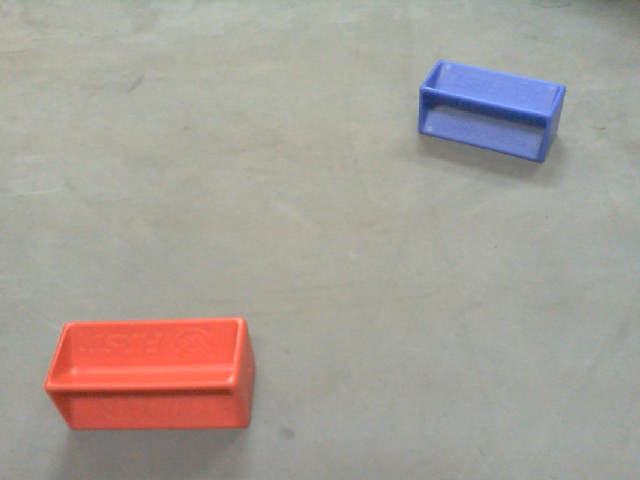BlueSample: (412, 57, 572, 170)
RedSample: (42, 315, 254, 438)
